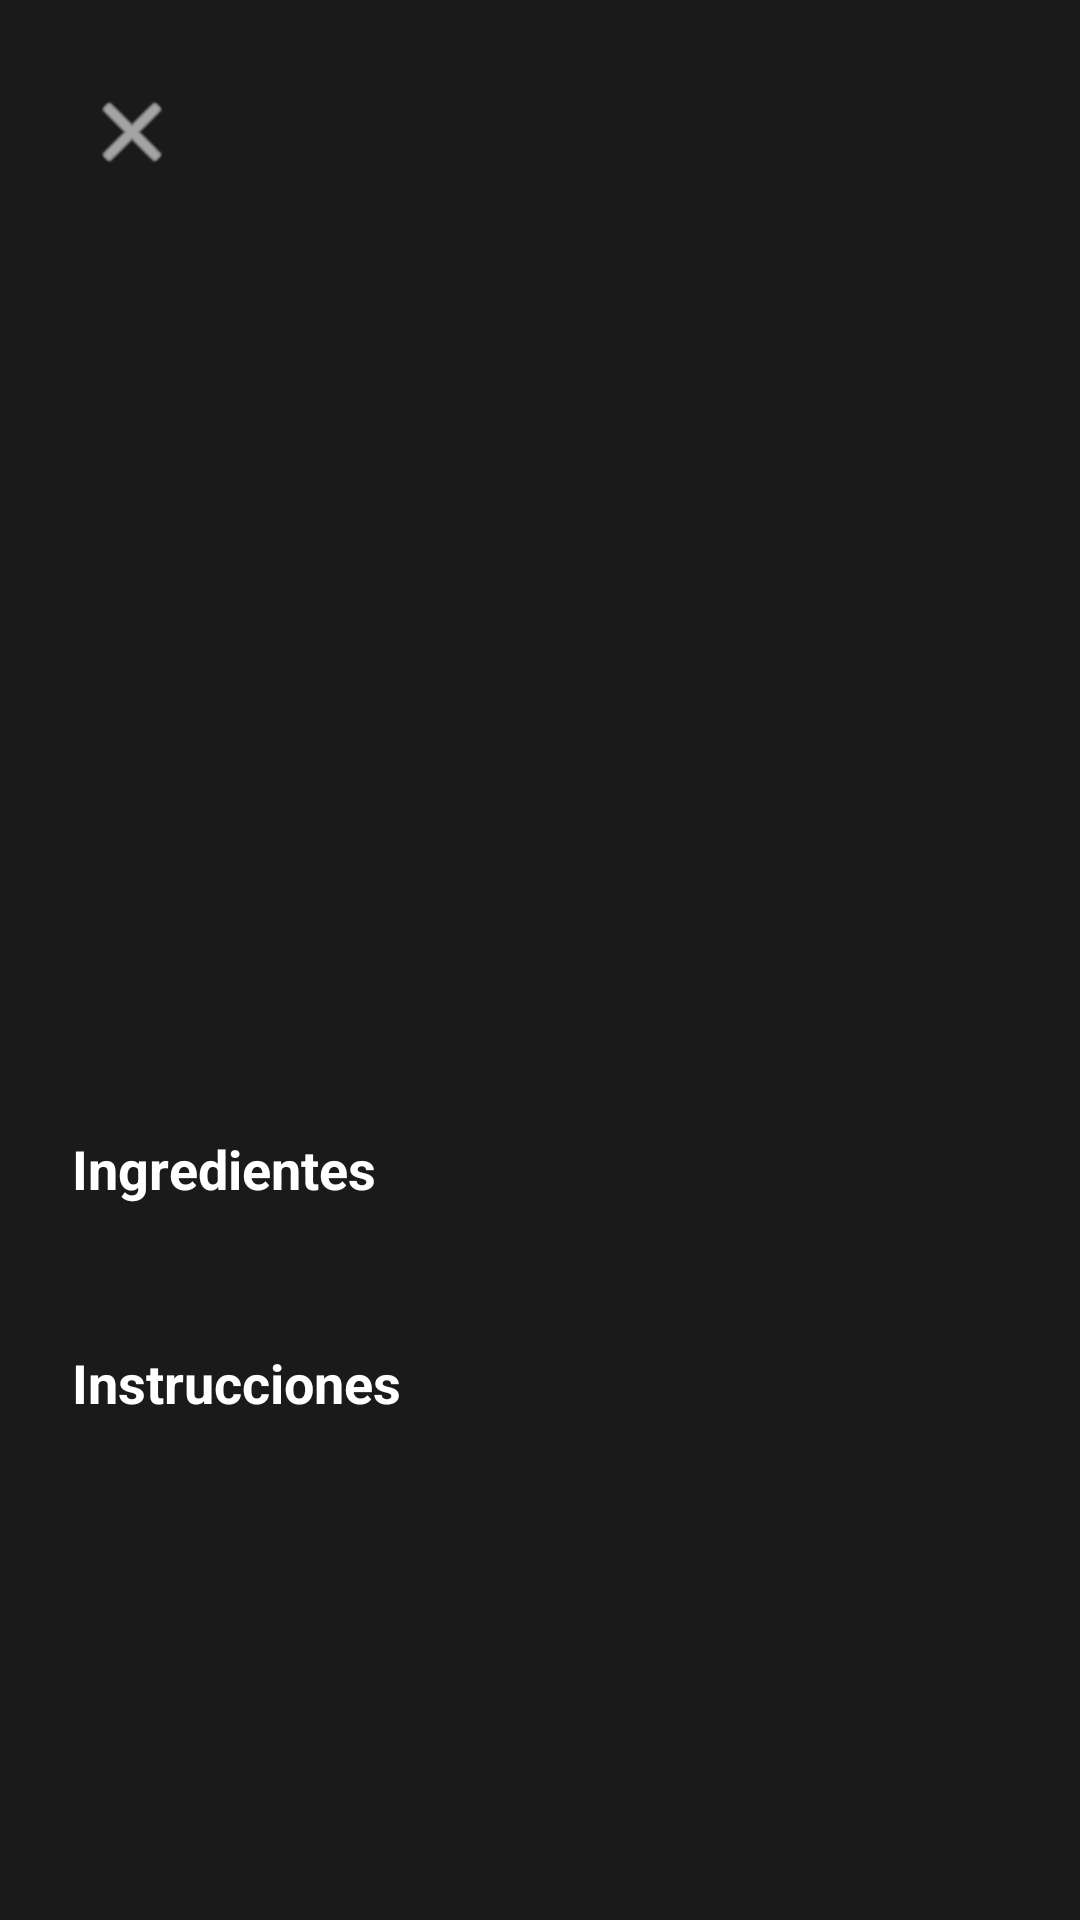

Icon bounding boxes for this 1080x1920 phone screenshot, format [x1, y1, x2, y2]:
close clear cancel: [102, 102, 162, 162]
